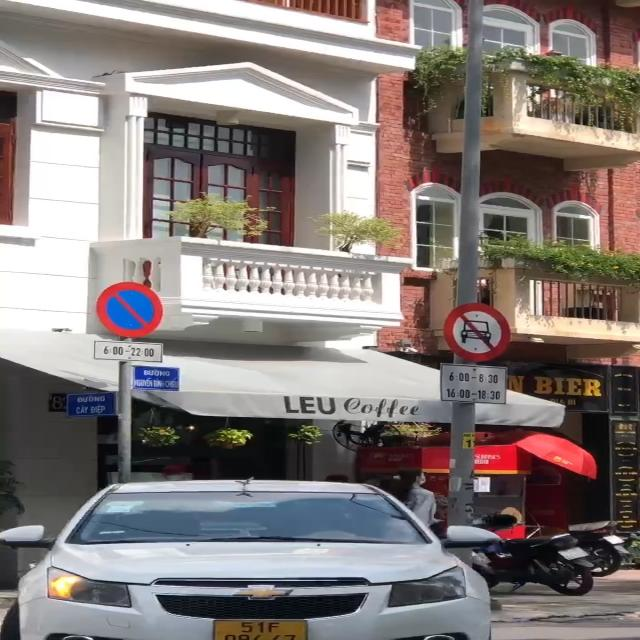Bien bao cam do xe: (97, 280, 166, 338)
Bien bao cam xe oto: (442, 303, 516, 362)
